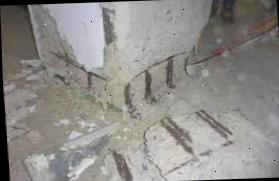exposed_rebar: (50, 51, 106, 87), (160, 115, 195, 157), (195, 109, 233, 145), (112, 150, 132, 181), (165, 160, 188, 174), (144, 69, 151, 99), (166, 58, 173, 87), (123, 82, 131, 105), (201, 149, 212, 154)
spalling: (28, 3, 107, 106), (123, 52, 185, 119), (102, 6, 116, 44)
